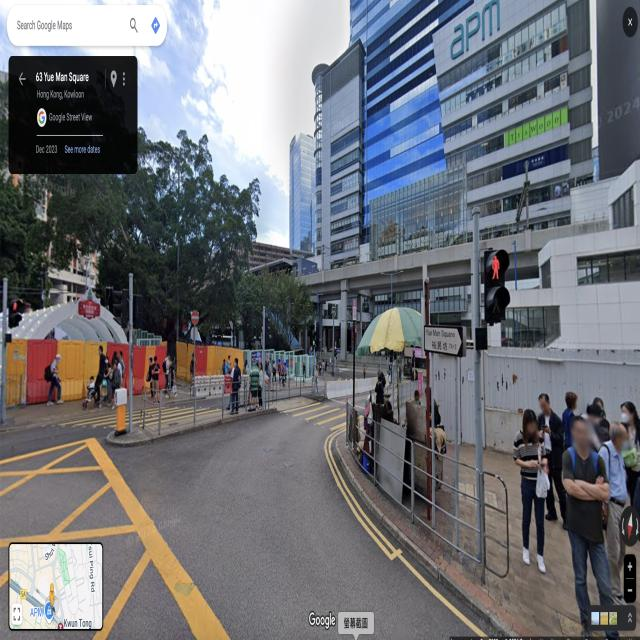Order-Sign: (191, 309, 199, 326)
Street-Direction-Sign: (424, 325, 464, 358)
